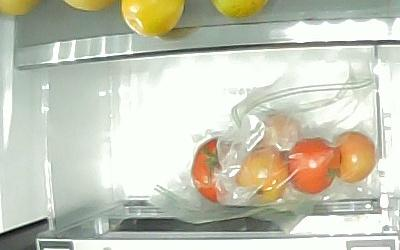tomato_vinyl: (190, 134, 243, 204), (234, 143, 289, 203), (286, 135, 336, 194), (330, 129, 377, 183), (254, 114, 305, 159)
